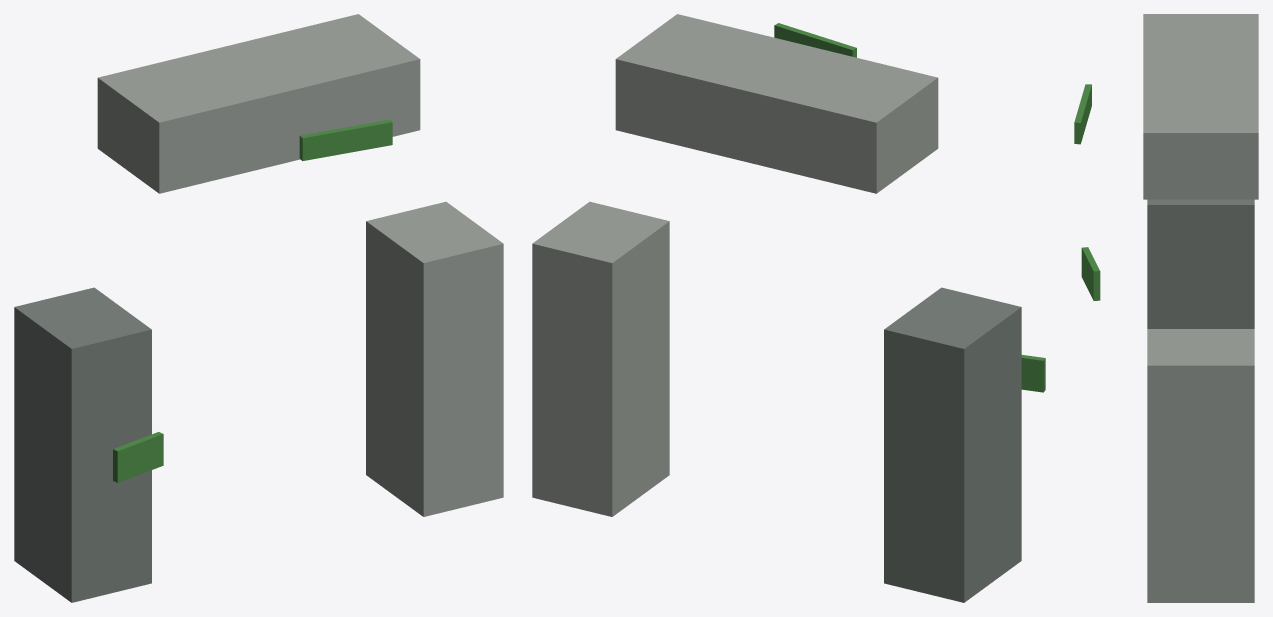
The model's file is SM_StoneArch_A.glb.
3 views of the same model, side by side, from view 1: azimuth 30°, elevation 25°; view 2: azimuth 150°, elevation 25°; view 3: azimuth 270°, elevation 25° (orthographic). The views are drawn at different scales.
Visible parts, largest first — view 1: SM_StoneArch_A; view 2: SM_StoneArch_A; view 3: SM_StoneArch_A.
Part boxes in pixels (x1,y1,x2,y2): SM_StoneArch_A: (14, 14, 503, 602); SM_StoneArch_A: (532, 14, 1045, 602); SM_StoneArch_A: (1074, 14, 1258, 602).
Bounding box in the file's own units: 3.56 × 3.63 × 1.41.
